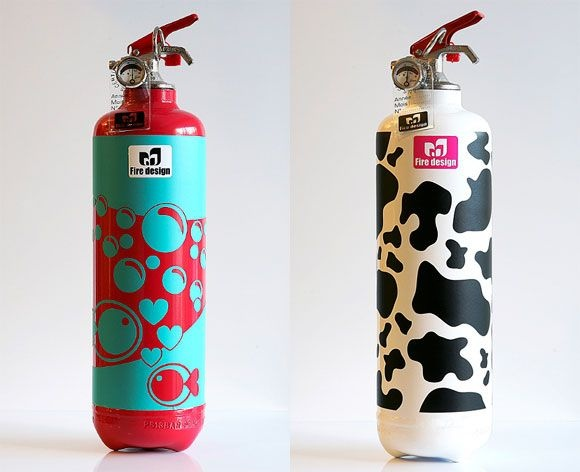fire_extinguisher: (375, 9, 494, 463), (91, 13, 208, 453)
